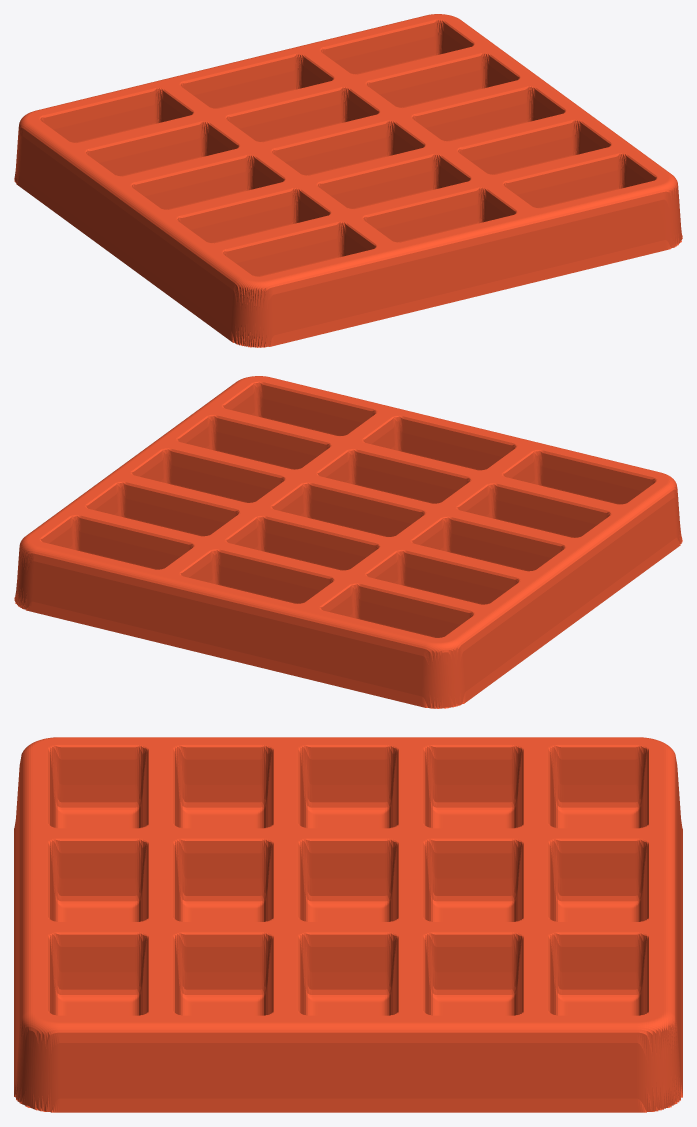
Rendered from mold.glb.
The picture shows the model from 3 angles, top to bottom: view 1: azimuth 30°, elevation 25°; view 2: azimuth 150°, elevation 25°; view 3: azimuth 270°, elevation 25°; orthographic projection. The views are drawn at different scales.
Visible parts, largest first — view 1: geometry_0; view 2: geometry_0; view 3: geometry_0.
Boxes of the visible parts, x1,y1,x2,y2 form: geometry_0: (14, 14, 682, 347); geometry_0: (14, 376, 682, 708); geometry_0: (14, 737, 682, 1112).
Size of the model in its own units: 0.1415 by 0.0182 by 0.1335.
